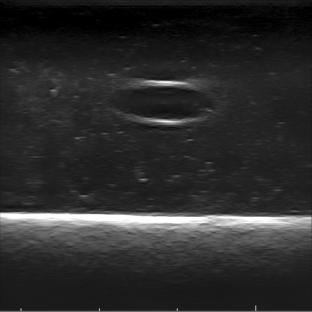vessel: (110, 80, 216, 126)
